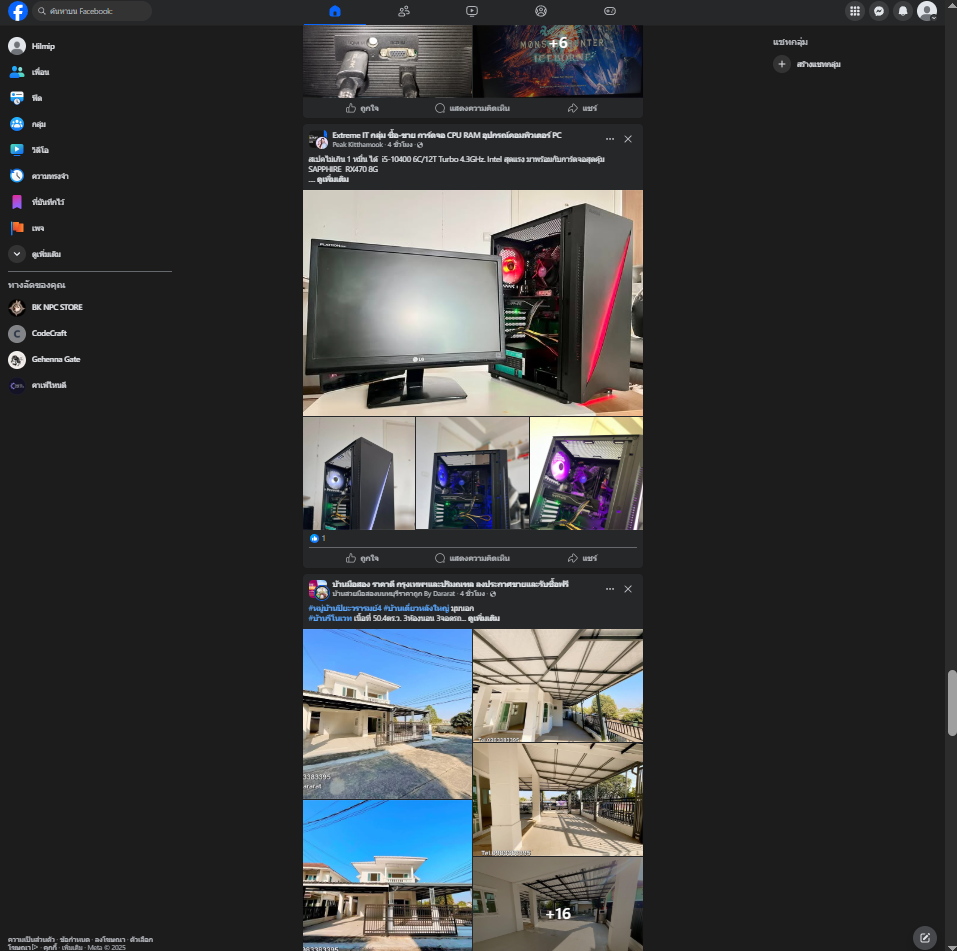topic: (302, 127, 645, 570), (302, 578, 643, 951), (299, 25, 646, 118)
